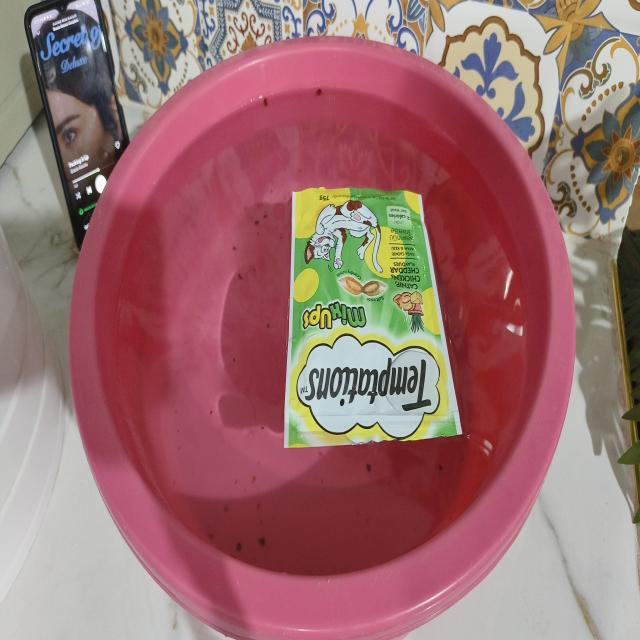Plastic Wrapper: (256, 158, 477, 470)
